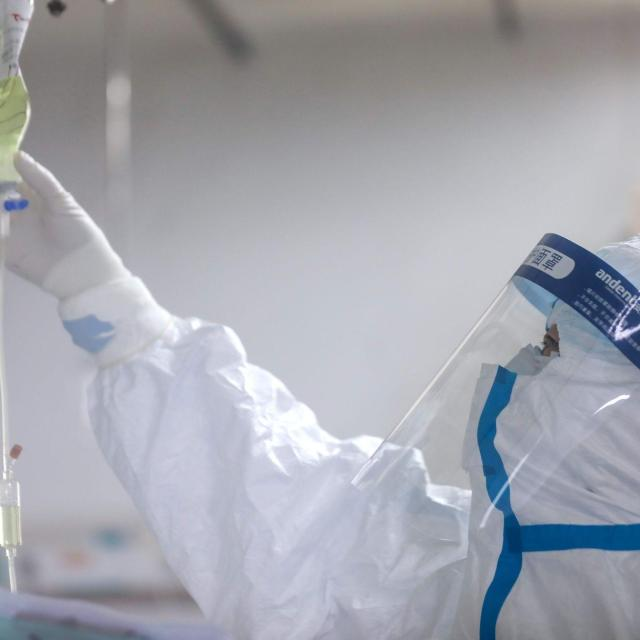Coverall: (87, 241, 640, 638)
Gloves: (0, 151, 135, 298)
Mask: (504, 340, 547, 376)
